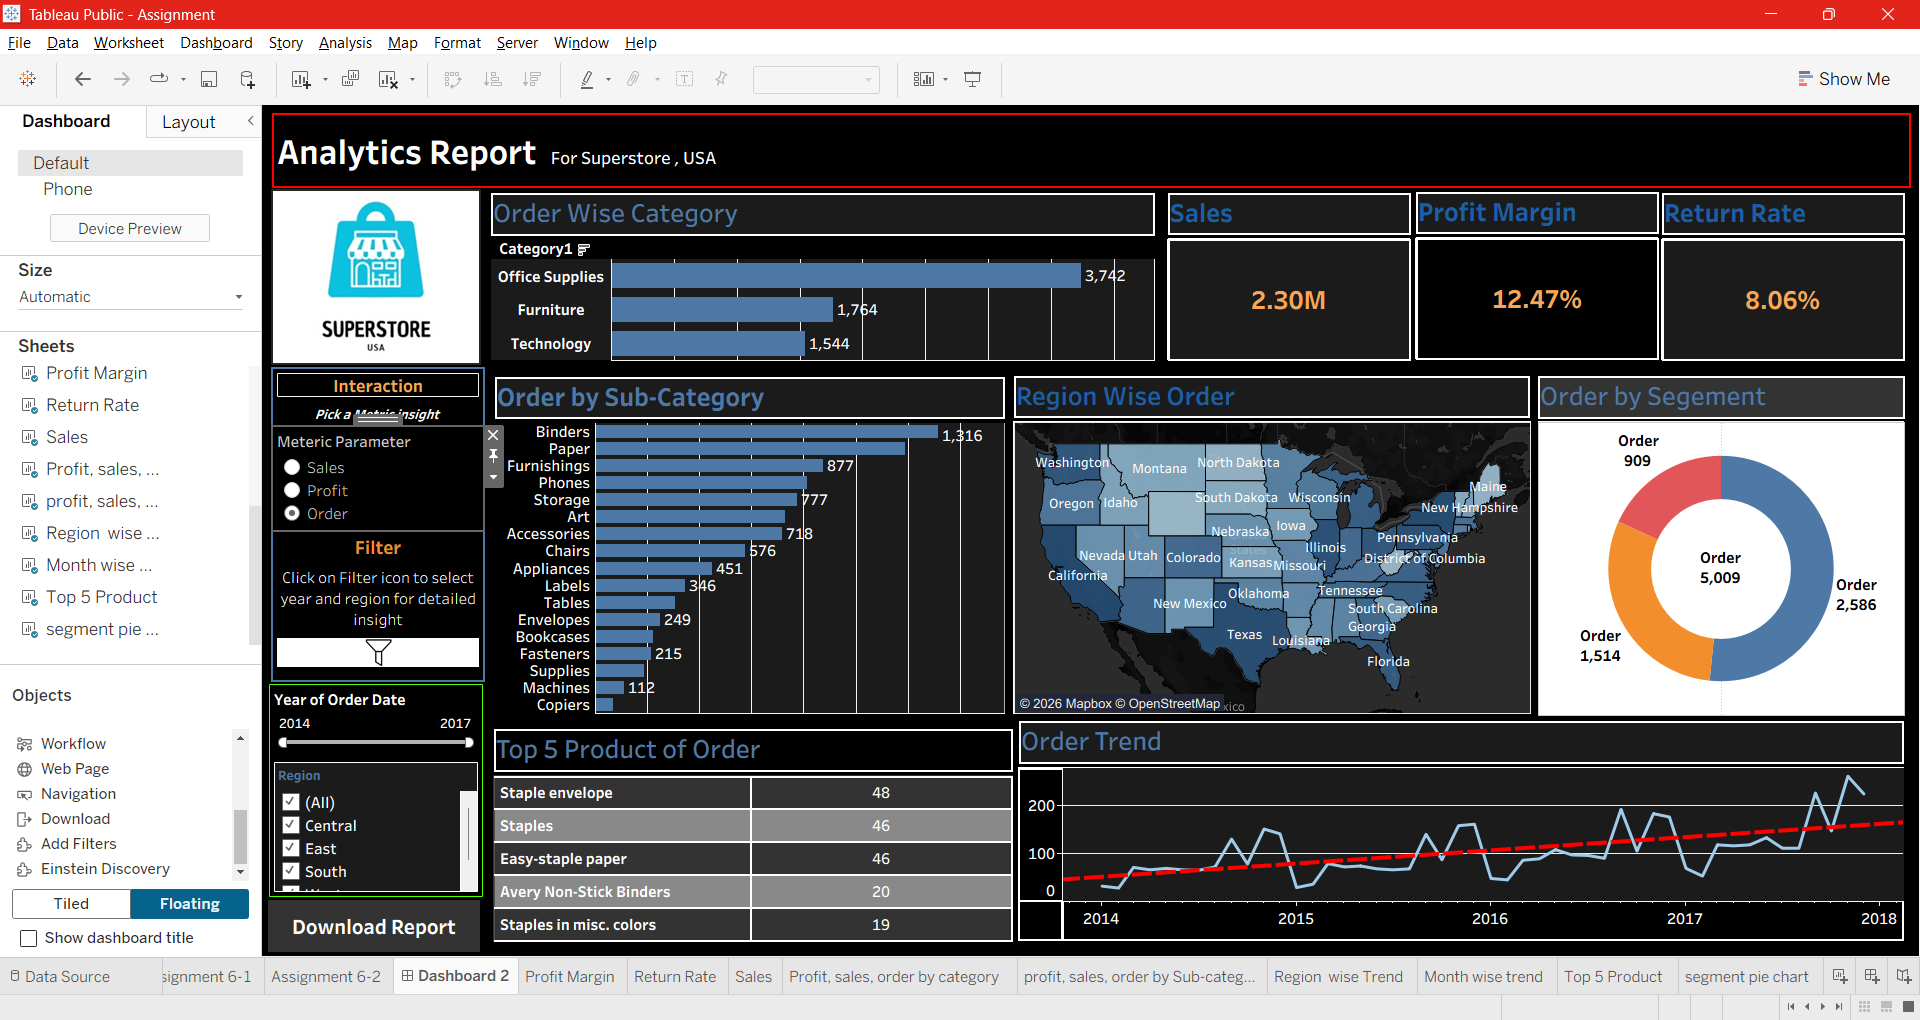

What the dashboard file says about the page in this screenshot:
{"tool":"tableau","page":{"name":"Dashboard ","canvas":[1000,1000],"units":"permille","ordinal":0},"visuals":[{"type":"text","box":[6,9.4,989.1,88.1]},{"type":"image","param":"Image/Picture_Tableau.jpg","box":[6.6,101.1,124.3,202.1]},{"type":"worksheet","title":"Profit Margin","mark":"Automatic","box":[695.8,102.2,147.2,197.4]},{"type":"worksheet","title":"Profit, sales, order by category","mark":"Automatic","rows":["Category"],"cols":["selected choice (copy)_1193036513087507"],"box":[138.2,103.4,400.7,197.4]},{"type":"worksheet","title":"Sales","mark":"Automatic","box":[546.2,103.4,147.2,197.4]},{"type":"worksheet","title":"Return Rate","mark":"Automatic","box":[844.3,103.4,147.2,197.4]},{"type":"text","box":[6.6,310.2,126.7,37.6]},{"type":"worksheet","title":"Region  wise Trend","mark":"Automatic","box":[453.2,318.4,312.6,397.2]},{"type":"worksheet","title":"segment pie chart","mark":"Pie","cols":["Calculation_1193036570570787","Calculation_1193036570599461"],"box":[770.1,318.4,221.5,399.5]},{"type":"worksheet","title":"profit, sales, order by Sub-category","mark":"Automatic","rows":["Sub-Category"],"cols":["selected choice (copy)_1193036513087507"],"box":[140,319.6,308.4,396]},{"type":"text","box":[6.6,347.8,126.7,30.6]},{"type":"parameter","param":"[Parameters].[Parameter 2]","box":[6.6,378.4,126.7,121]},{"type":"text","box":[6.6,499.4,126.7,38.8]},{"type":"text","box":[6.6,538.2,126.7,83.4]},{"type":"dashboard-object","box":[6.6,621.6,126.7,43.5]},{"type":"filter","title":"Month wise trend","param":"[federated.0eqxz7i10ds5pl12b4szo0oc16mv].[tyr:Order Date:qk]","box":[4.8,681.6,128,85.8]},{"type":"worksheet","title":"Month wise trend","mark":"Automatic","rows":["selected choice (copy)_1193036513087507"],"cols":["Order Date"],"box":[456.2,723.9,534.7,258.5]},{"type":"worksheet","title":"Top 5 Product ","mark":"Automatic","rows":["Product Name"],"box":[139.4,733.2,313.8,250.3]},{"type":"filter","title":"Profit, sales, order by category","param":"[federated.0eqxz7i10ds5pl12b4szo0oc16mv].[none:Region:nk]","box":[4.8,767.3,128,162.2]},{"type":"dashboard-object","box":[3.6,934.2,127.9,61.1]}]}

Visuals, with their boxes on the dashboard's canvas, which has no fixed pixel size, in thousandths of its width and height (x1, y1, x2, y2). These are canvas units, not pixel positions in the 1920x1020 screenshot, which may show the page scaled, cropped or inside an application window:
text: left=6, top=9, right=995, bottom=98
image: left=7, top=101, right=131, bottom=303
"Profit Margin" worksheet: left=696, top=102, right=843, bottom=300
"Profit, sales, order by category" worksheet: left=138, top=103, right=539, bottom=301
"Sales" worksheet: left=546, top=103, right=693, bottom=301
"Return Rate" worksheet: left=844, top=103, right=992, bottom=301
text: left=7, top=310, right=133, bottom=348
"Region  wise Trend" worksheet: left=453, top=318, right=766, bottom=716
"segment pie chart" worksheet (Pie marks): left=770, top=318, right=992, bottom=718
"profit, sales, order by Sub-category" worksheet: left=140, top=320, right=448, bottom=716
text: left=7, top=348, right=133, bottom=378
parameter: left=7, top=378, right=133, bottom=499
text: left=7, top=499, right=133, bottom=538
text: left=7, top=538, right=133, bottom=622
dashboard-object: left=7, top=622, right=133, bottom=665
"Month wise trend" filter: left=5, top=682, right=133, bottom=767
"Month wise trend" worksheet: left=456, top=724, right=991, bottom=982
"Top 5 Product " worksheet: left=139, top=733, right=453, bottom=984
"Profit, sales, order by category" filter: left=5, top=767, right=133, bottom=930
dashboard-object: left=4, top=934, right=132, bottom=995
